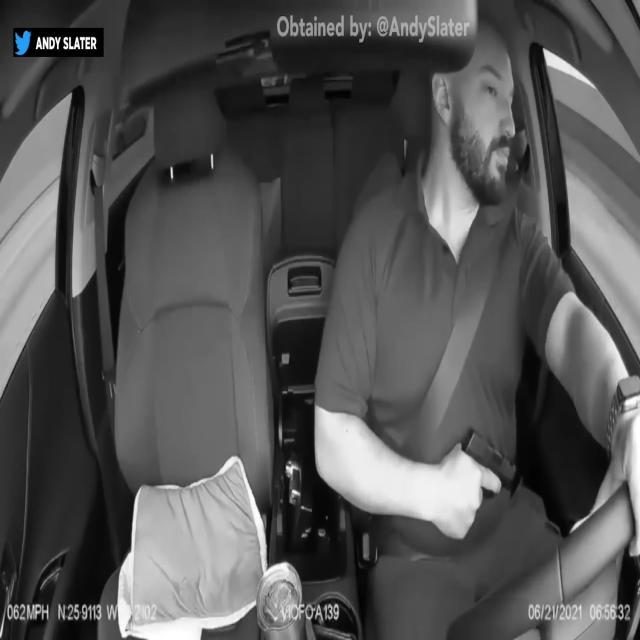senjata_api: (462, 424, 517, 501)
